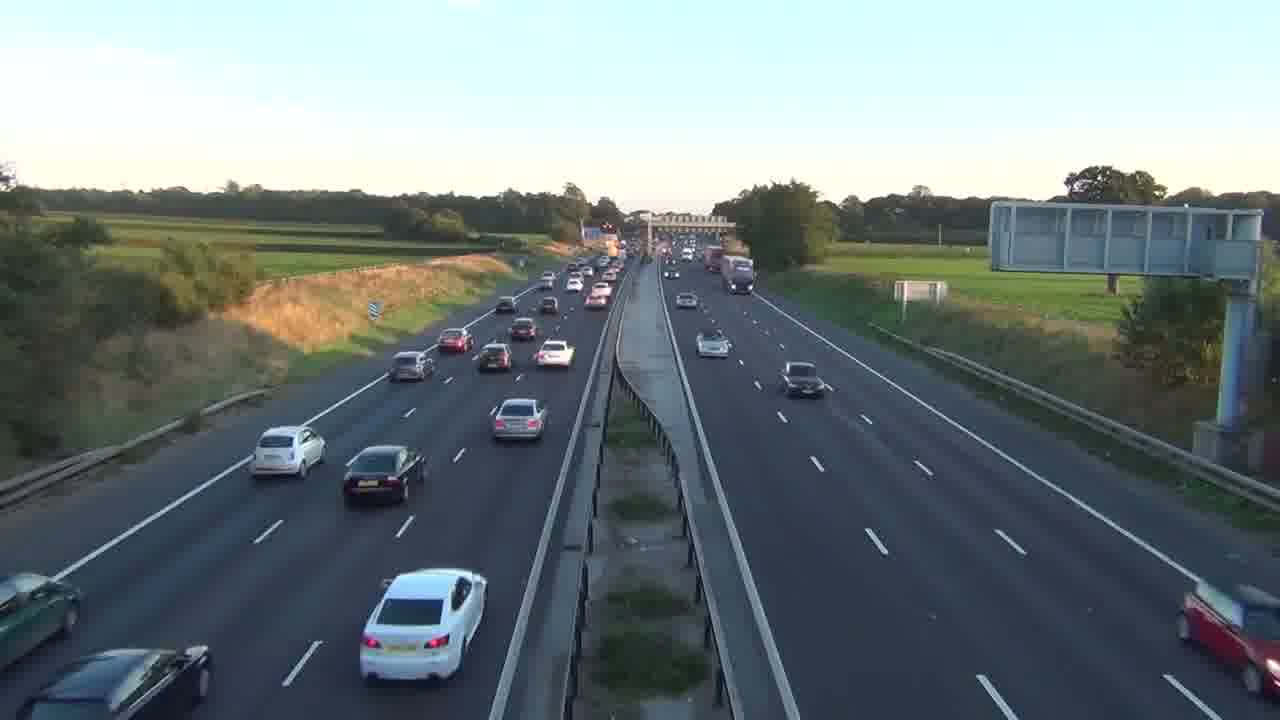car: (358, 566, 488, 686), (341, 443, 427, 506), (250, 424, 327, 479), (490, 397, 548, 443), (778, 360, 831, 398), (386, 351, 435, 383), (473, 341, 512, 373), (533, 339, 575, 368), (696, 333, 731, 357)
truck: (18, 642, 214, 718), (1176, 583, 1280, 701), (719, 258, 756, 294)
